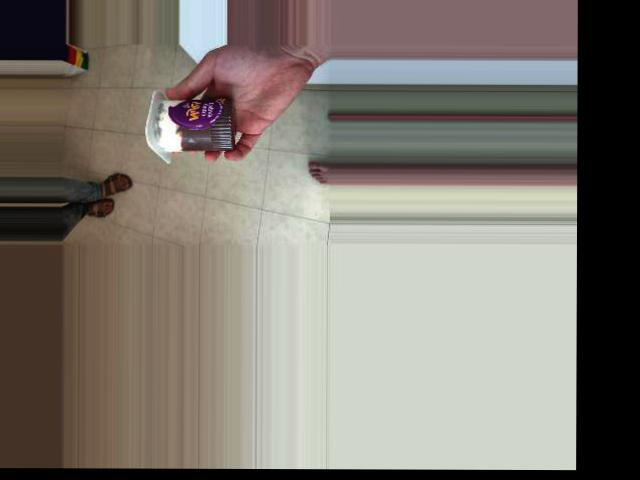milky: (137, 82, 248, 162)
